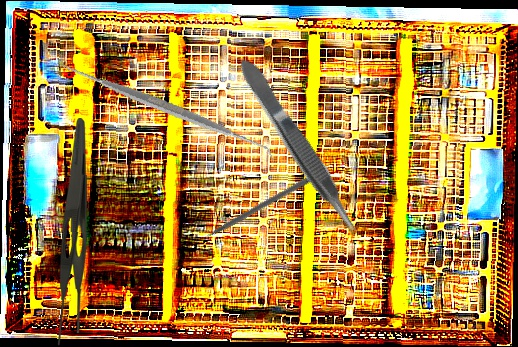Dressing Forceps: (50, 118, 91, 346)
Pusher: (187, 165, 329, 249)
Spatula Surgical: (59, 1, 275, 215)
Tissue Forceps: (232, 51, 368, 245)
